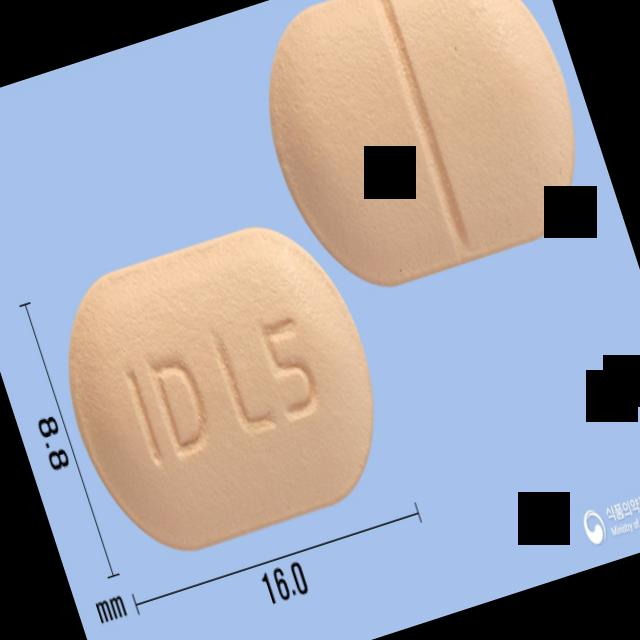Levofexin: (35, 204, 408, 570)
